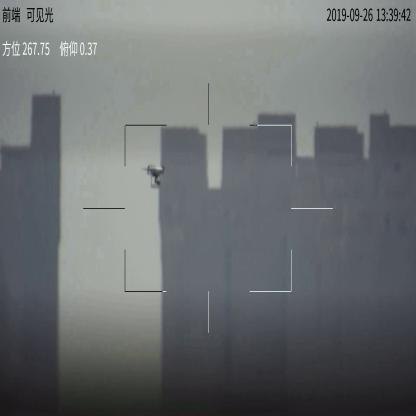uav: (142, 164, 166, 190)
